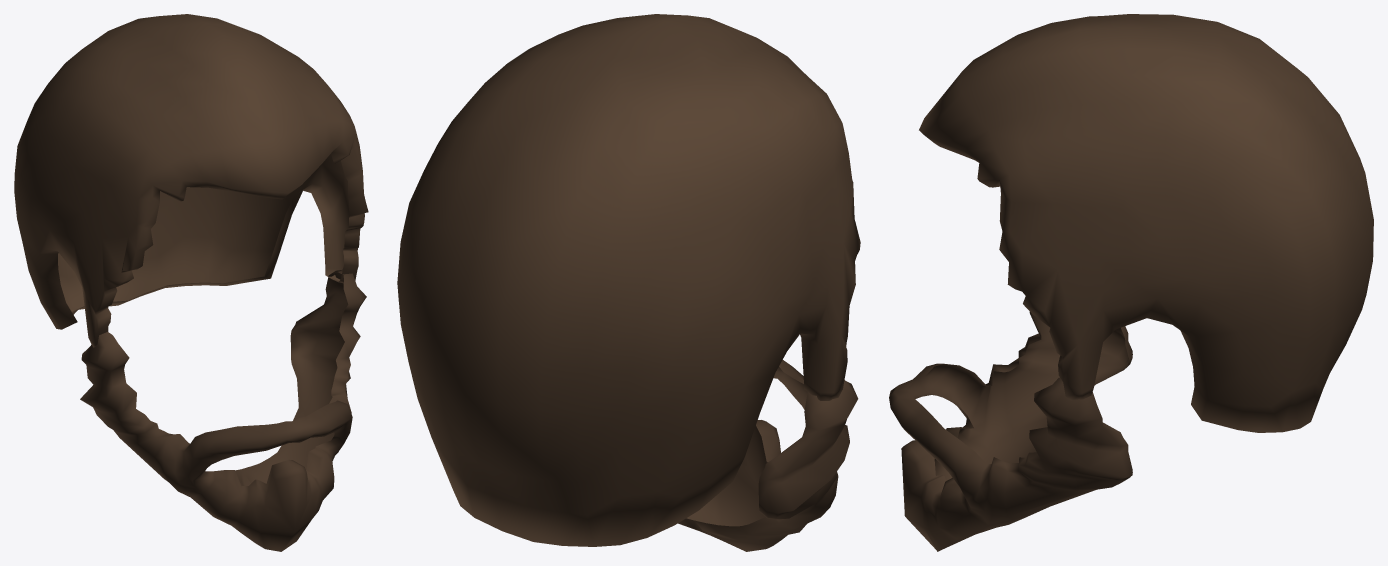
The model's file is scout-head.glb.
3 views of the same model, side by side, from view 1: azimuth 30°, elevation 25°; view 2: azimuth 150°, elevation 25°; view 3: azimuth 270°, elevation 25° (orthographic). The views are drawn at different scales.
Visible parts, largest first — view 1: SM_Hero_Hair_scout; view 2: SM_Hero_Hair_scout; view 3: SM_Hero_Hair_scout.
Part boxes in pixels (x1,y1,x2,y2): SM_Hero_Hair_scout: [14, 14, 368, 551]; SM_Hero_Hair_scout: [397, 14, 860, 551]; SM_Hero_Hair_scout: [889, 14, 1373, 551].
Size of the model in its own units: 0.1555 by 0.2429 by 0.2042.
